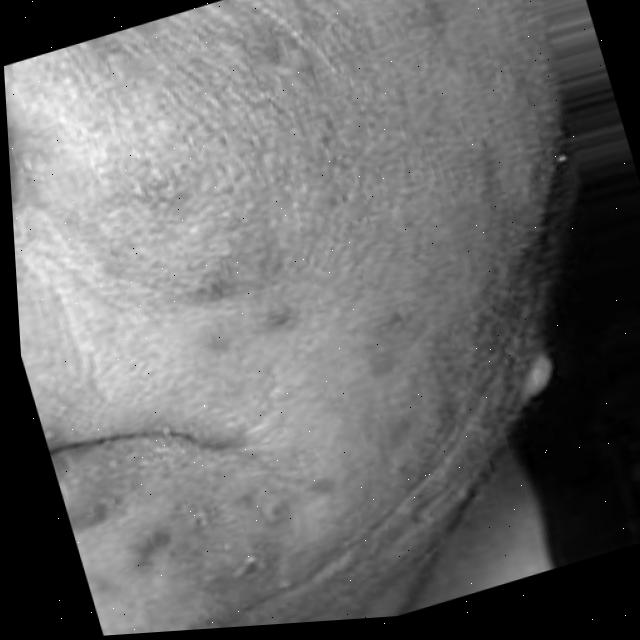Rosacea: (31, 0, 531, 381), (74, 479, 334, 637)
